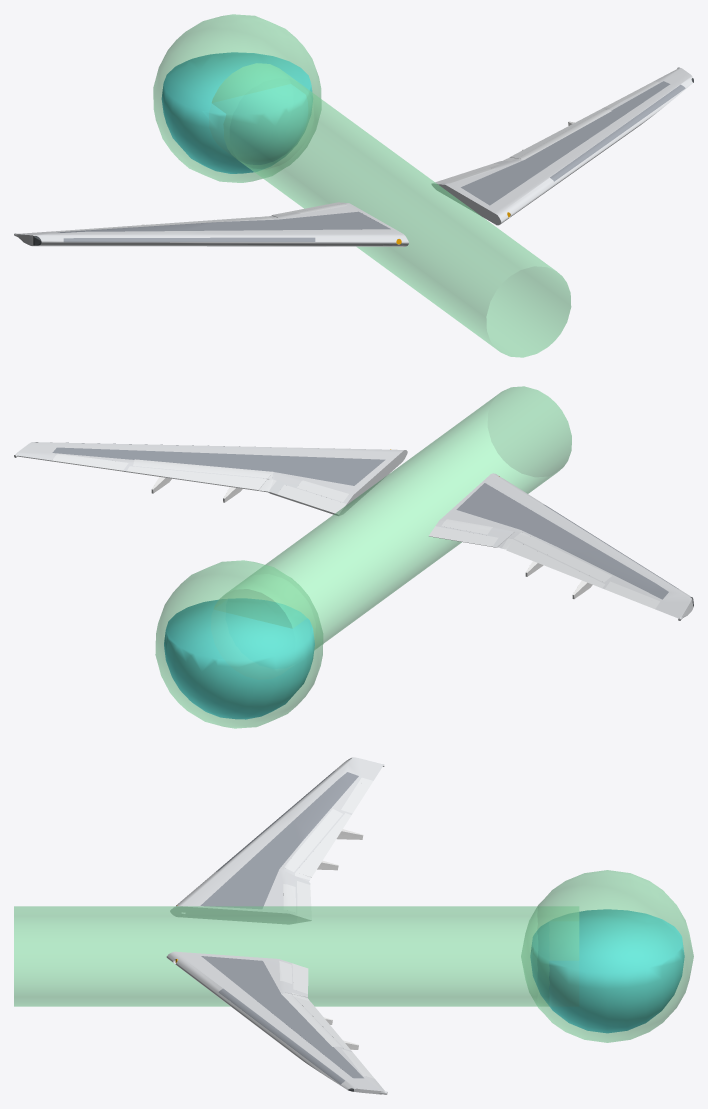
Rendered from bongliner.glb.
3 views of the same model, one above another, from view 1: azimuth 30°, elevation 25°; view 2: azimuth 150°, elevation 25°; view 3: azimuth 270°, elevation 25° (orthographic). The views are drawn at different scales.
Parts seen in each view (by area): view 1: vidrio, cuerpo, agua; view 2: vidrio, cuerpo, agua; view 3: vidrio, cuerpo, agua.
Part boxes in pixels (x1=…): vidrio: x1=153, y1=14, x2=571, y2=357; cuerpo: x1=14, y1=67, x2=693, y2=246; agua: x1=161, y1=52, x2=312, y2=173; vidrio: x1=155, y1=386, x2=571, y2=728; cuerpo: x1=14, y1=442, x2=693, y2=620; agua: x1=164, y1=598, x2=314, y2=719; vidrio: x1=14, y1=870, x2=693, y2=1042; cuerpo: x1=166, y1=757, x2=387, y2=1094; agua: x1=530, y1=909, x2=684, y2=1033.
Size of the model in its own units: 6.25 by 1.37 by 5.41.
